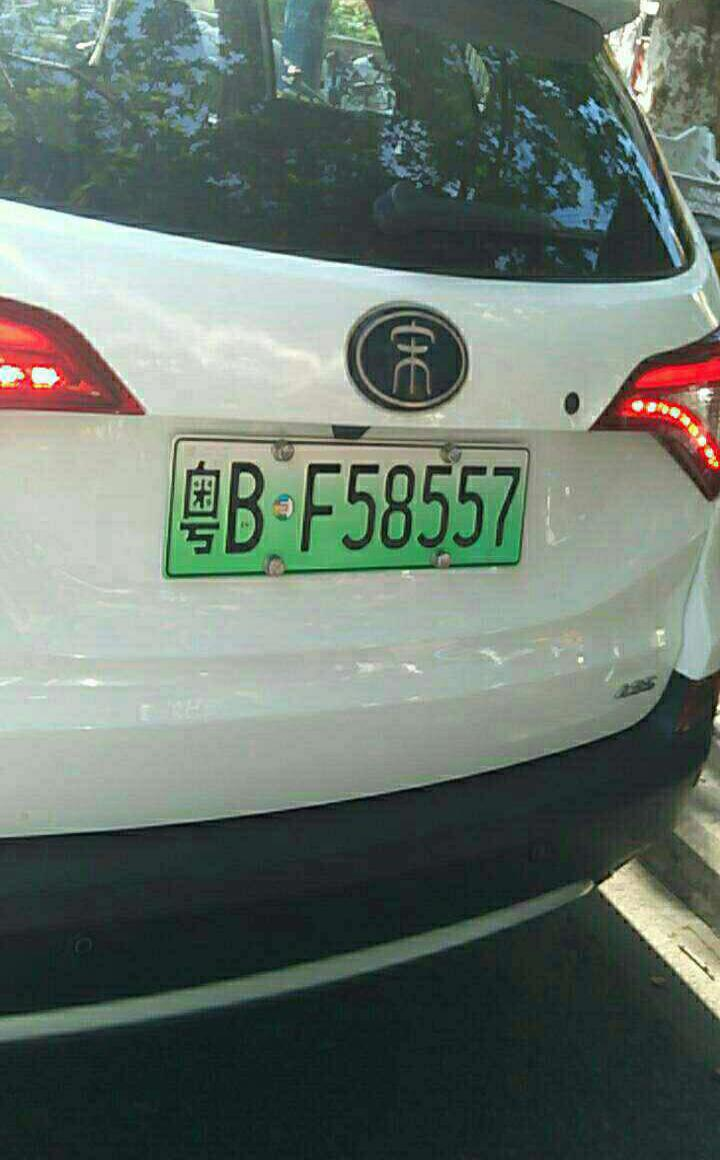car_id: (166, 441, 532, 572)
